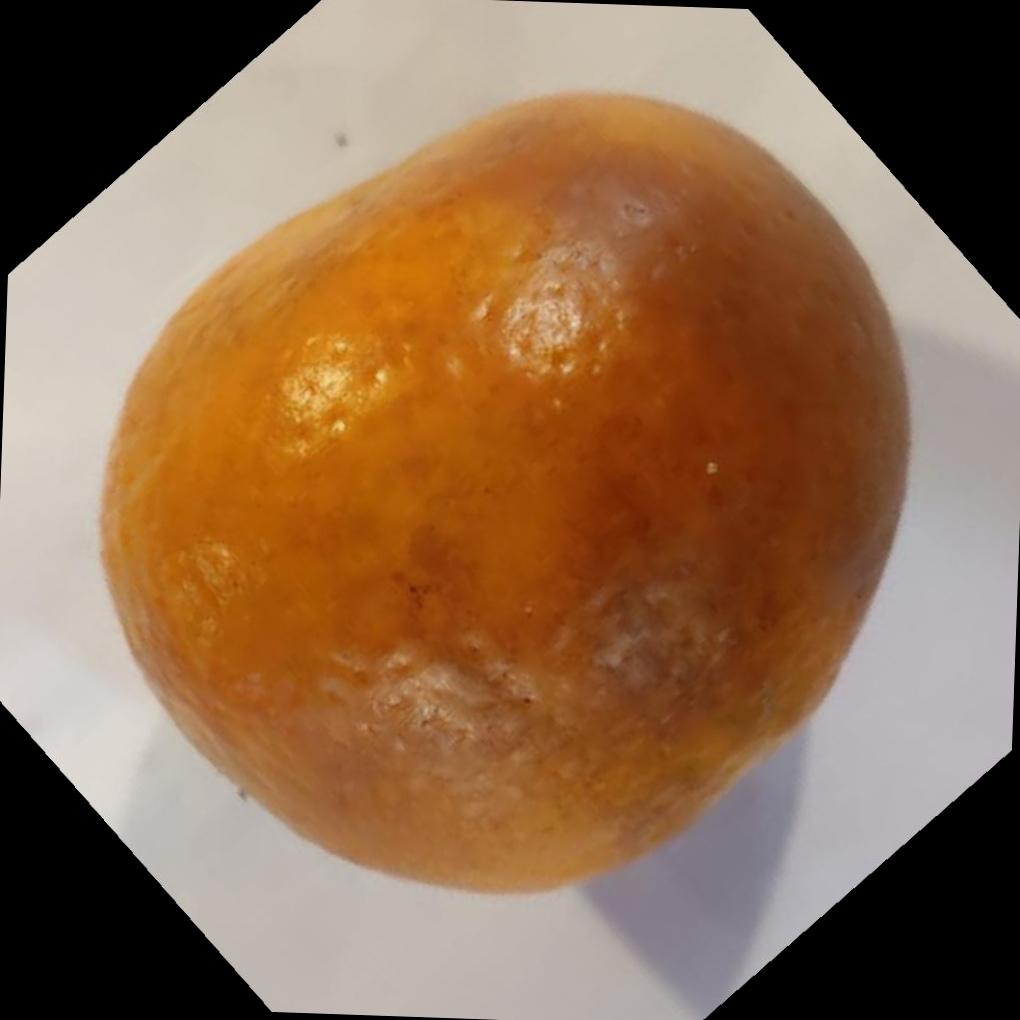FreshOrange: (99, 89, 916, 898)
